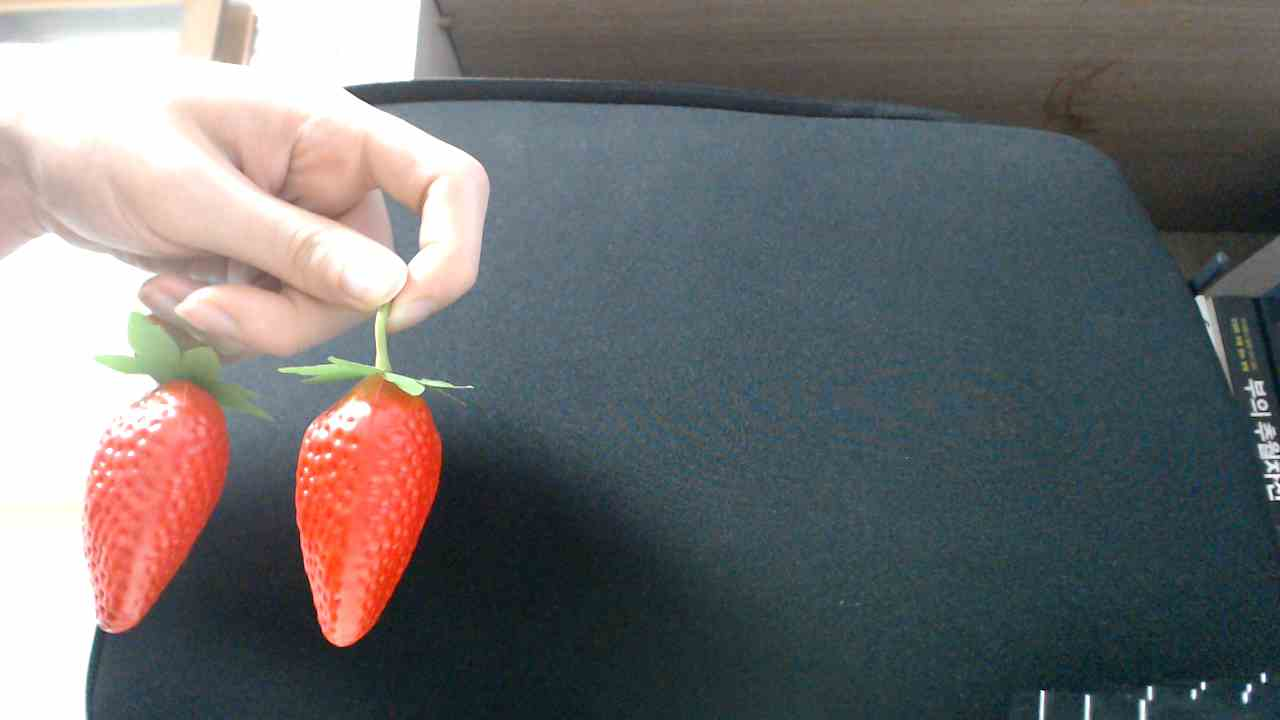strawberry: (284, 357, 446, 655), (66, 367, 239, 641)
